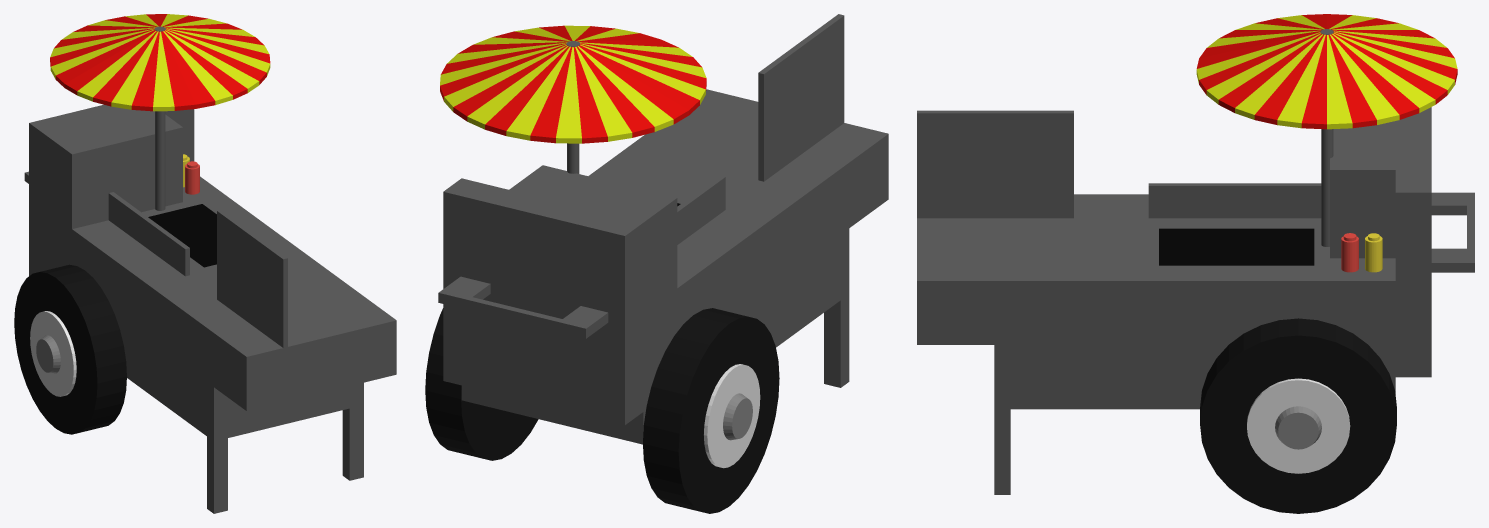
The model's file is hotdog.fbx.
3 views of the same model, side by side, from view 1: azimuth 30°, elevation 25°; view 2: azimuth 150°, elevation 25°; view 3: azimuth 270°, elevation 25° (orthographic). The views are drawn at different scales.
Parts seen in each view (by area): view 1: Cube, Cylinder.006, Cylinder.004; view 2: Cube, Cylinder.006, Cylinder.001; view 3: Cube, Cylinder.001, Cylinder.004.
Boxes of the visible parts, x1,y1,x2,y2 form: Cube: (24,14,396,513); Cylinder.006: (14,264,126,434); Cylinder.004: (183,154,199,194); Cube: (438,14,888,444); Cylinder.006: (643,308,779,513); Cylinder.001: (425,308,538,460); Cube: (917,14,1474,494); Cylinder.001: (1200,318,1396,513); Cylinder.004: (1341,233,1382,272).
Bounding box in the file's own units: 811 × 1215 × 1433.
